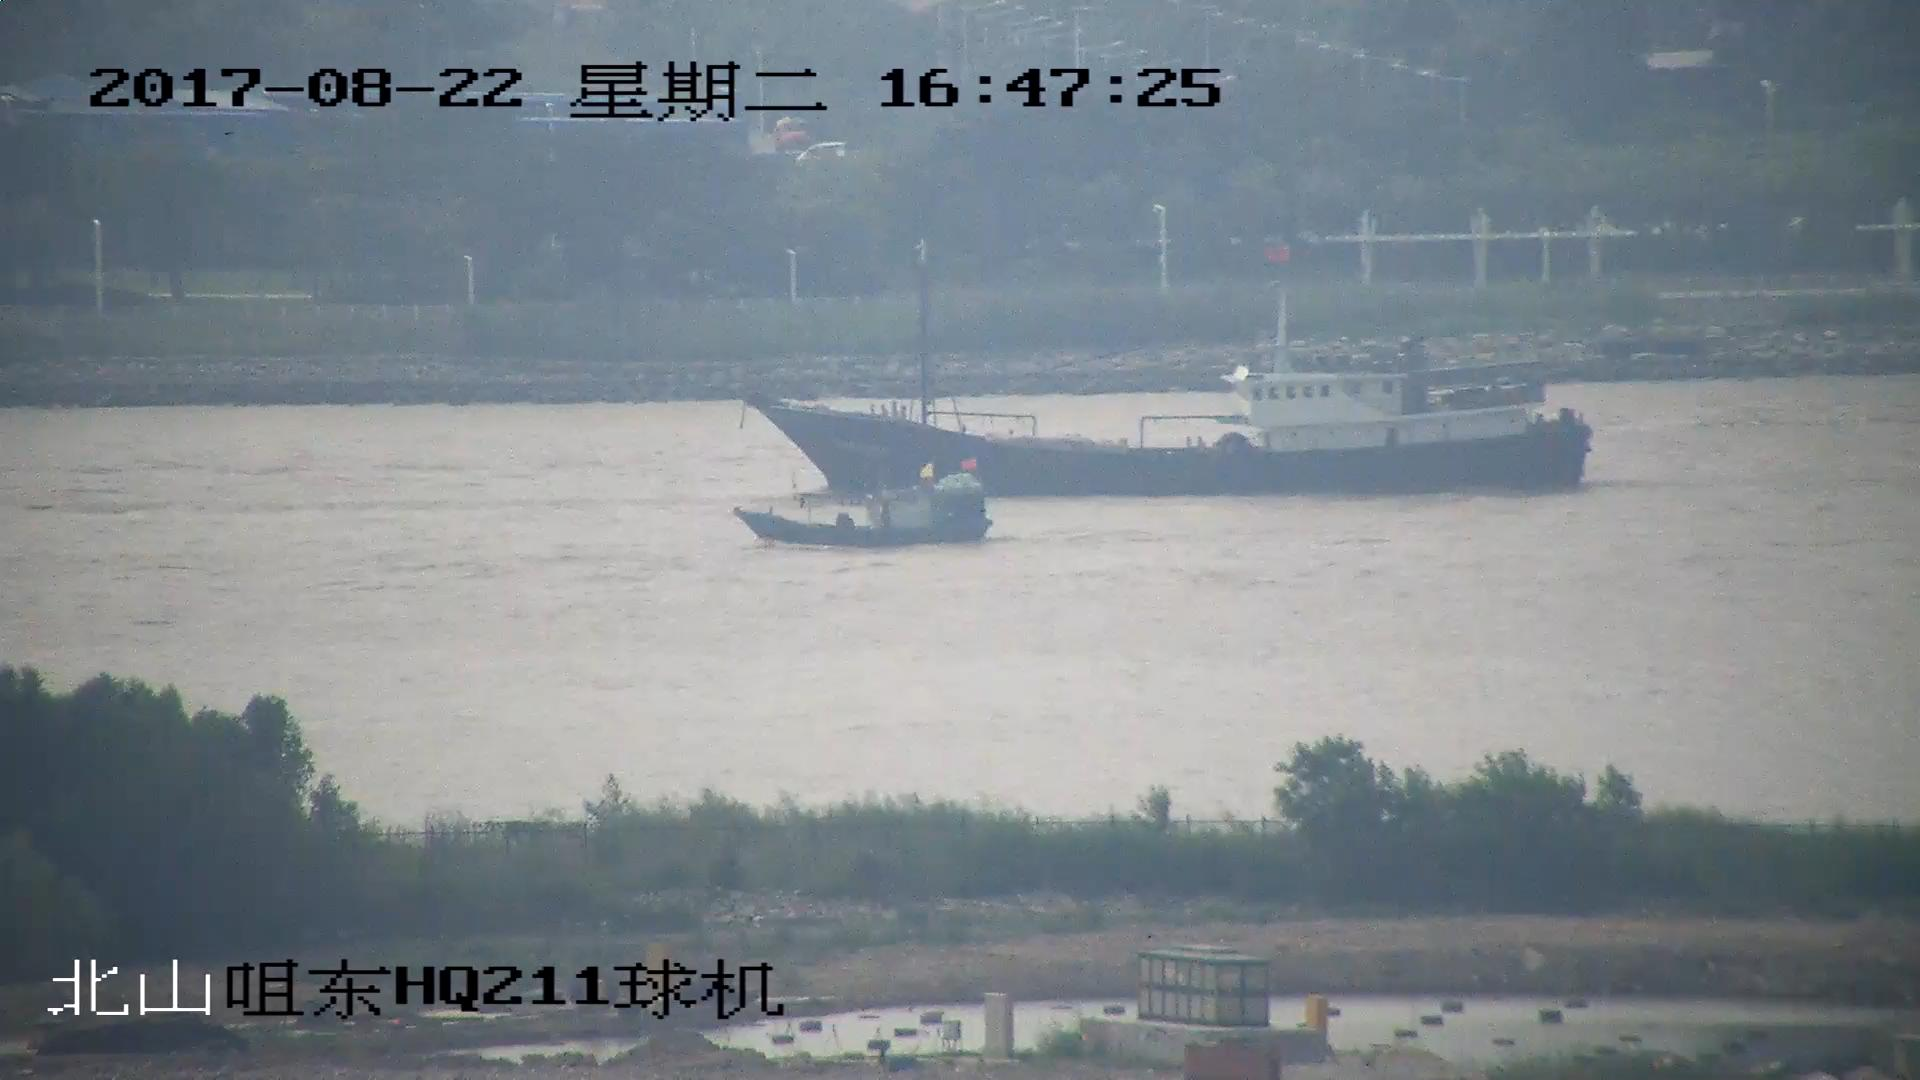fishing boat: (738, 235, 1599, 499), (740, 456, 980, 550)
